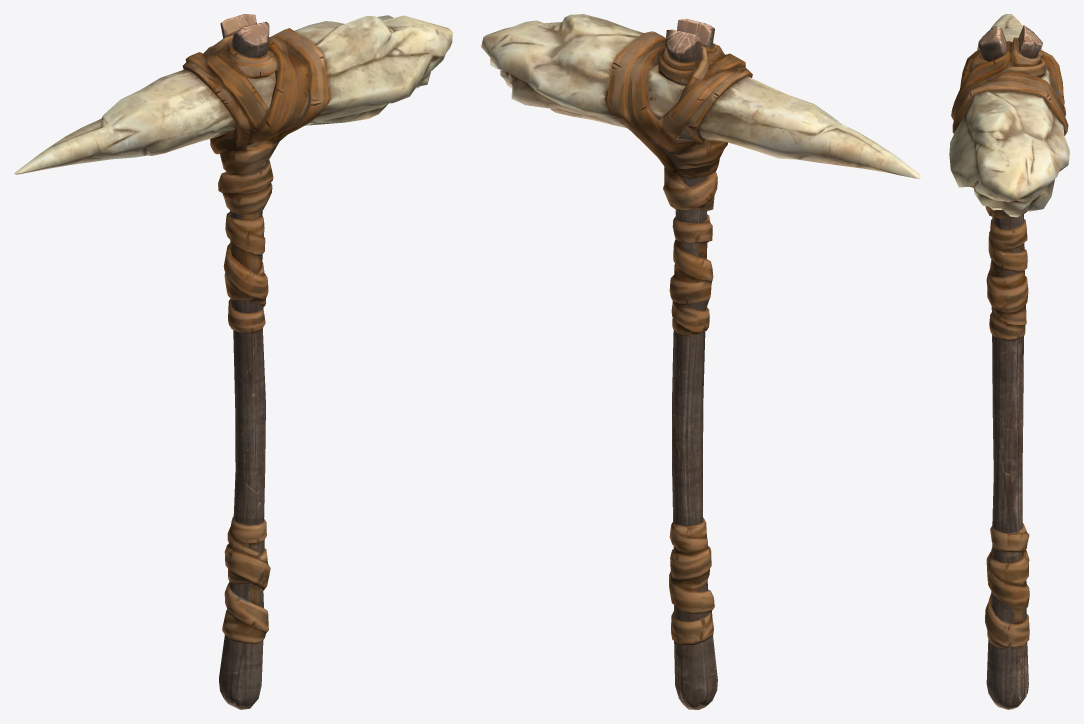
The picture shows the model from 3 angles, left to right: view 1: azimuth 30°, elevation 25°; view 2: azimuth 150°, elevation 25°; view 3: azimuth 270°, elevation 25°; orthographic projection.
Visible parts, largest first — view 1: SM_Pickaxe_Bone_2H_01_LOD0; view 2: SM_Pickaxe_Bone_2H_01_LOD0; view 3: SM_Pickaxe_Bone_2H_01_LOD0.
Boxes of the visible parts, x1,y1,x2,y2 form: SM_Pickaxe_Bone_2H_01_LOD0: [14, 14, 452, 709]; SM_Pickaxe_Bone_2H_01_LOD0: [481, 14, 920, 709]; SM_Pickaxe_Bone_2H_01_LOD0: [949, 14, 1069, 709].
Size of the model in its own units: 0.9164 by 1.37 by 0.2197.
1 material, 1 textured.
